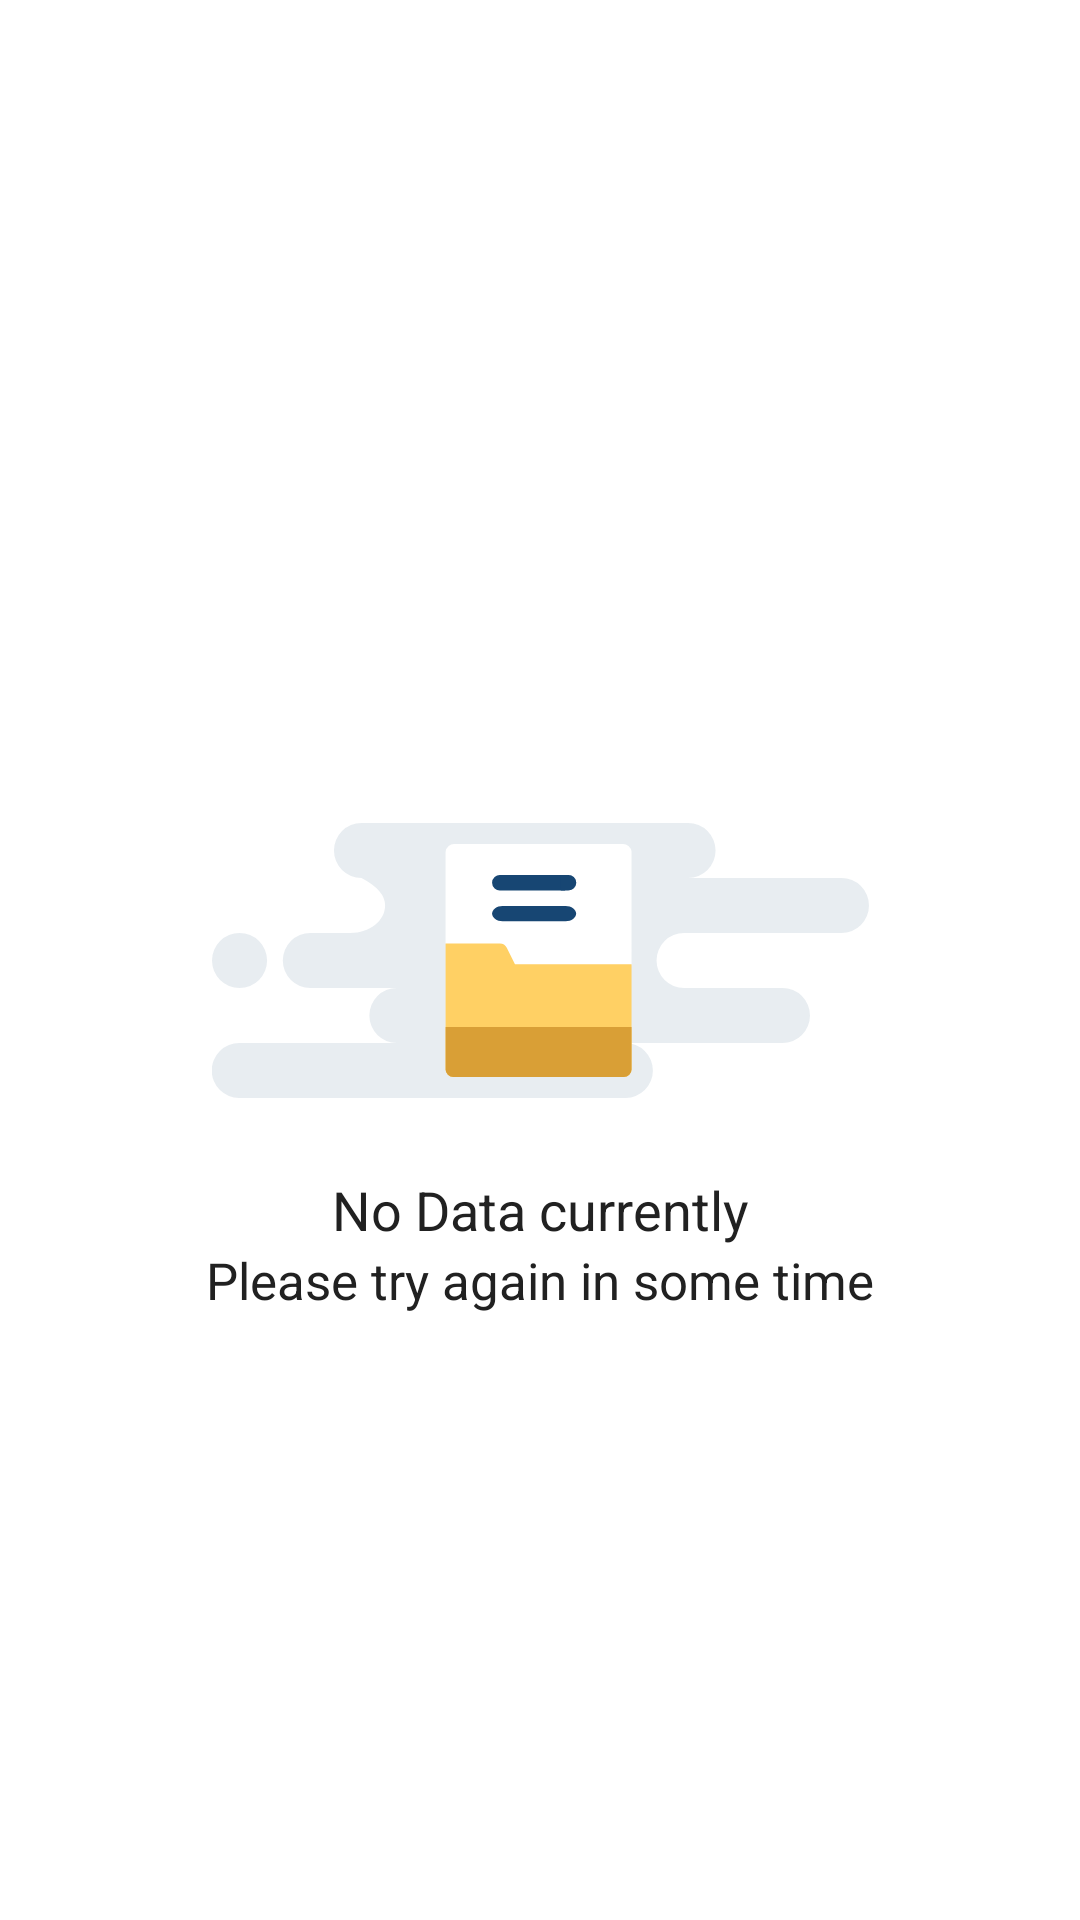

Icons on this 1080×1920 Android screen, each with its box as (x1, y1, x2, y2):
empty state: (445, 875, 632, 1077)
